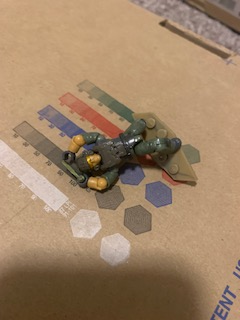soldier: (58, 116, 184, 193)
